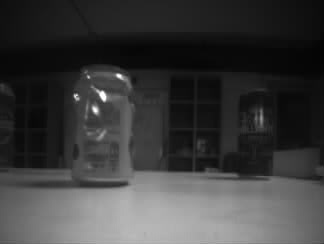Tin can: (66, 63, 137, 187), (237, 86, 275, 180)
